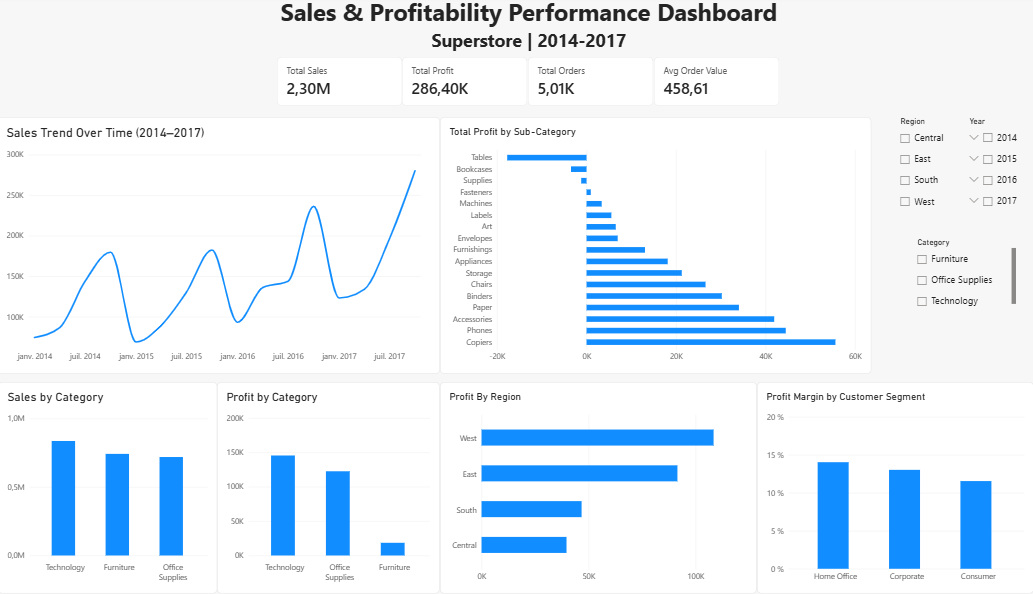

What the dashboard file says about the page in this screenshot:
{"tool":"powerbi","page":{"name":"Page 1","canvas":[1920,1080],"ordinal":0},"visuals":[{"type":"cardVisual","fields":{"Data":["Superstore.Total Profit"]},"box":[734.1,110.2,226.9,88.1],"z":0},{"type":"cardVisual","fields":{"Data":["Superstore.Total Orders"]},"box":[961,110.2,226.9,88.1],"z":1000},{"type":"cardVisual","fields":{"Data":["Superstore.Avg Order Value"]},"box":[1187.8,110.2,226.9,88.1],"z":2000},{"type":"lineChart","title":"Sales Trend Over Time (2014–2017)","fields":{"Category":["Superstore.Order Date.Variation.Date Hierarchy.Year","Superstore.Order Date.Variation.Date Hierarchy.Quarter","Superstore.Order Date.Variation.Date Hierarchy.Month","Superstore.Order Date.Variation.Date Hierarchy.Day"],"Y":["Superstore.Total Sales"]},"box":[1.4,218.6,800,464.3],"z":3000},{"type":"clusteredColumnChart","title":"Sales by Category","fields":{"Category":["Superstore.Category"],"Y":["Superstore.Total Sales"]},"box":[3.6,697.1,396.4,382.3],"z":4000},{"type":"clusteredColumnChart","title":"Profit by Category","fields":{"Category":["Superstore.Category"],"Y":["Superstore.Total Profit"]},"box":[399.1,697.1,402,382.3],"z":5000},{"type":"clusteredBarChart","fields":{"Category":["Superstore.Sub-Category"],"Y":["Superstore.Total Profit"]},"box":[801.4,218.6,778.6,464.3],"z":6000},{"type":"clusteredBarChart","title":"Profit By Region","fields":{"Category":["Superstore.Region"],"Y":["Superstore.Total Profit"]},"box":[801.2,697.2,571.9,381.9],"z":7000},{"type":"clusteredColumnChart","title":"Profit Margin by Customer Segment","fields":{"Category":["Superstore.Segment"],"Y":["Superstore.Profit Margin"]},"box":[1374.6,697.2,500.4,382.3],"z":8000},{"type":"slicer","title":"Year ","fields":{"Values":["Superstore.Order Date.Variation.Date Hierarchy.Year","Superstore.Order Date.Variation.Date Hierarchy.Quarter","Superstore.Order Date.Variation.Date Hierarchy.Month","Superstore.Order Date.Variation.Date Hierarchy.Day"]},"box":[1750.7,218.8,138.2,170.9],"z":9000},{"type":"slicer","fields":{"Values":["Superstore.Region"]},"box":[1624.8,218.8,125.5,169.1],"z":10000},{"type":"slicer","fields":{"Values":["Superstore.Category"]},"box":[1655.7,437.7,186.4,130.9],"z":11000},{"type":"textbox","box":[2.8,0,1917.2,112.4],"z":12000},{"type":"cardVisual","fields":{"Data":["Superstore.Total Sales"]},"box":[507.2,110.2,226.9,88.1],"z":13000}]}

Visuals, with their boxes in screenshot pixels (x1, y1, x2, y2), scaled from the page's 1920x1080 canvas onto the 1033x594 screenshot:
cardVisual - Superstore.Total Profit: [left=395, top=61, right=517, bottom=109]
cardVisual - Superstore.Total Orders: [left=517, top=61, right=639, bottom=109]
cardVisual - Superstore.Avg Order Value: [left=639, top=61, right=761, bottom=109]
"Sales Trend Over Time (2014–2017)" lineChart: [left=1, top=120, right=431, bottom=376]
"Sales by Category" clusteredColumnChart: [left=2, top=383, right=215, bottom=593]
"Profit by Category" clusteredColumnChart: [left=215, top=383, right=431, bottom=593]
clusteredBarChart - Superstore.Sub-Category x Superstore.Total Profit: [left=431, top=120, right=850, bottom=376]
"Profit By Region" clusteredBarChart: [left=431, top=383, right=739, bottom=593]
"Profit Margin by Customer Segment" clusteredColumnChart: [left=740, top=383, right=1009, bottom=593]
"Year " slicer: [left=942, top=120, right=1016, bottom=214]
slicer - Superstore.Region: [left=874, top=120, right=942, bottom=213]
slicer - Superstore.Category: [left=891, top=241, right=991, bottom=313]
textbox: [left=2, top=0, right=1032, bottom=62]
cardVisual - Superstore.Total Sales: [left=273, top=61, right=395, bottom=109]
